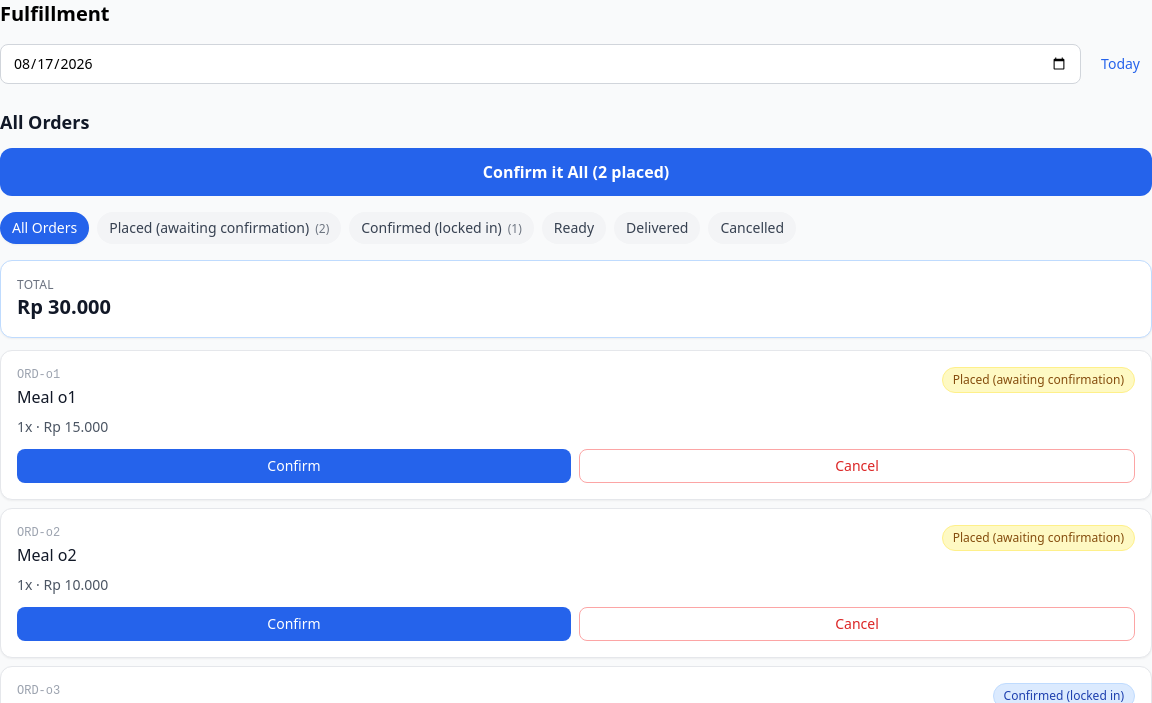
it: FulfillmentPage (office boy) › opens the confirmation dialog with the placed count
Click the button "Confirm it All (2 placed)" at point(576, 172), box x1=0 y1=148 x2=1151 y2=196
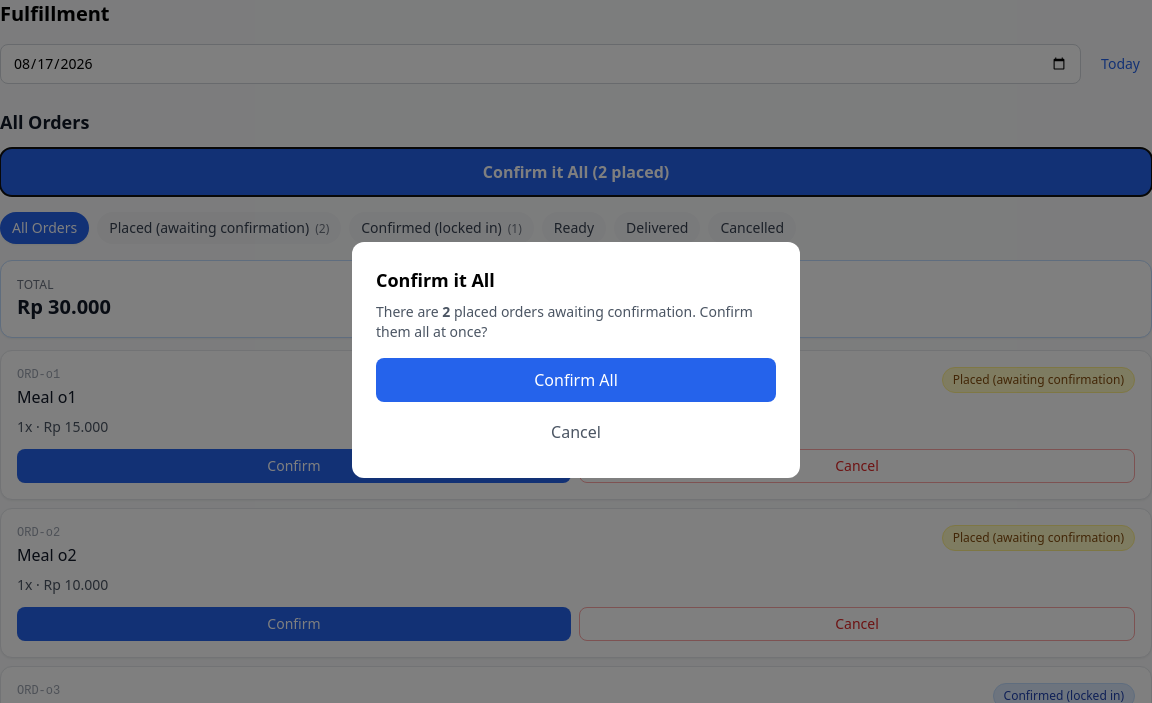
Check: the heading "Confirm it All" is shown, box x1=376 y1=268 x2=495 y2=292
Check: the text "awaiting confirmation. Confirm them all at once?" is shown, box x1=376 y1=302 x2=753 y2=341
